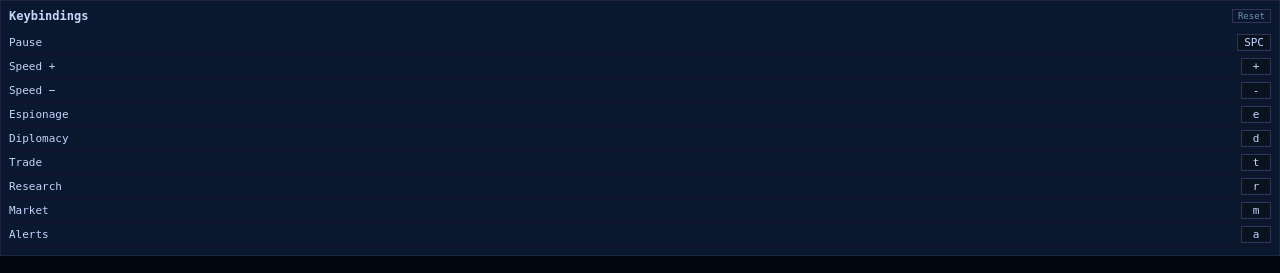
Test: KeybindingsPanel › clicking a bind enters listening mode then captures keydown on window
Click the button "SPC": (1254, 42) 1237,34 -> 1271,51
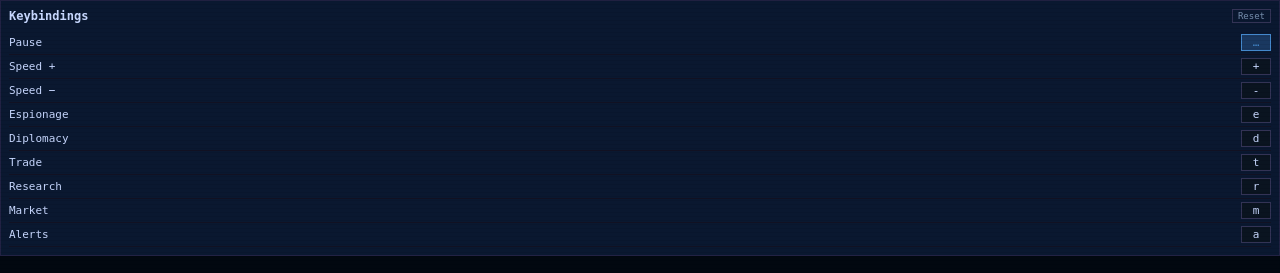
Check: the button "…" is shown, box 1241,34 -> 1271,51
Press p
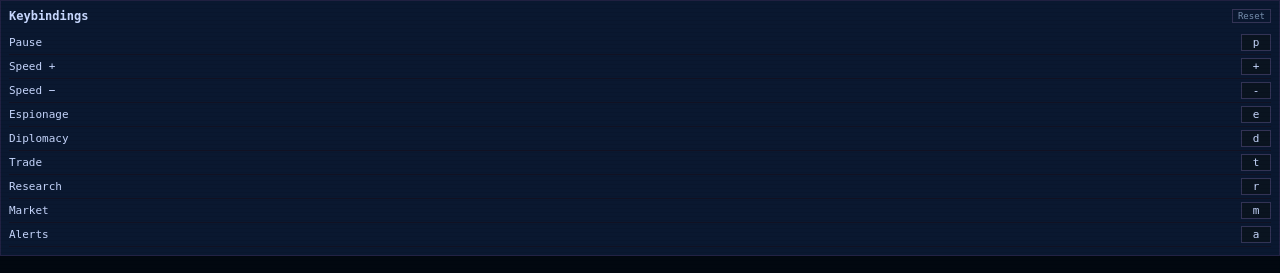
Check: the button "…" is gone
